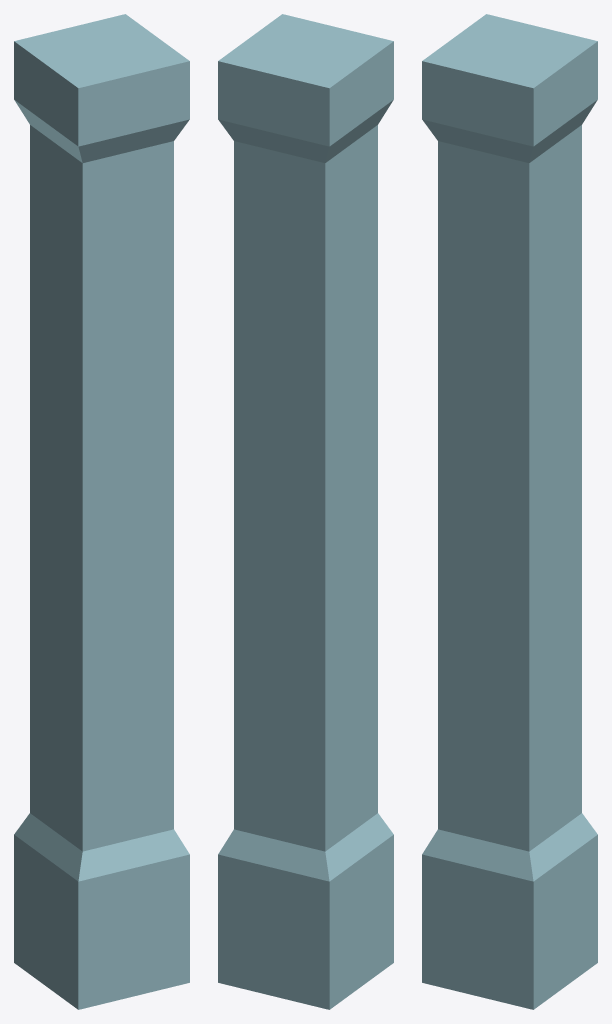
The model's file is borderPillar.obj.
3 views of the same model, side by side, from view 1: azimuth 30°, elevation 25°; view 2: azimuth 150°, elevation 25°; view 3: azimuth 330°, elevation 25° (orthographic).
Parts seen in each view (by area): view 1: borderPillar; view 2: borderPillar; view 3: borderPillar.
Part boxes in pixels (<box>): borderPillar: <box>14,14,189,1009</box>; borderPillar: <box>218,14,393,1009</box>; borderPillar: <box>422,14,597,1009</box>.
Size of the model in its own units: 0.1 by 0.79 by 0.1.
